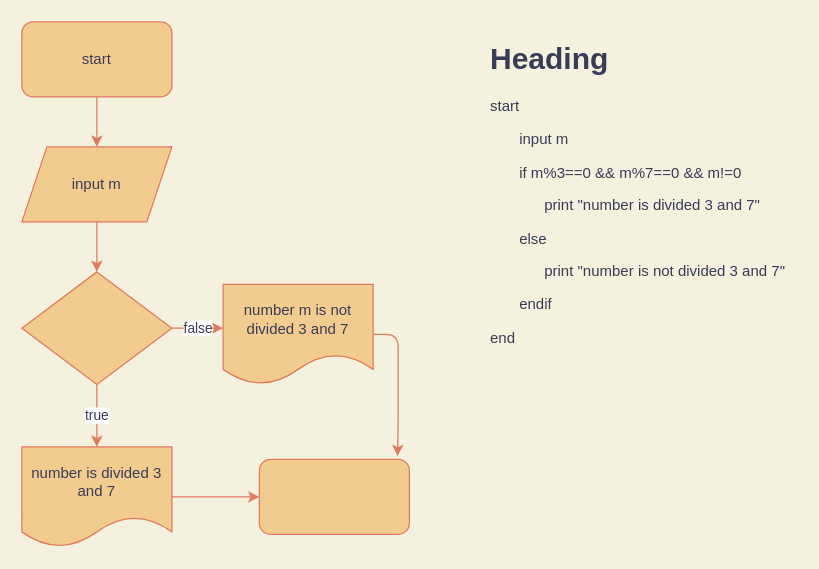
Some shapes in this 819 by 569 pixel diagram are drawn without their labels. The shapes that lost their labels are listed below. From the top down, each one's centre as x and y in pixels, then its label:
At (x=96, y=327): "m%3==0 && m%7==0 && m!=0".
At (x=333, y=496): "end".
